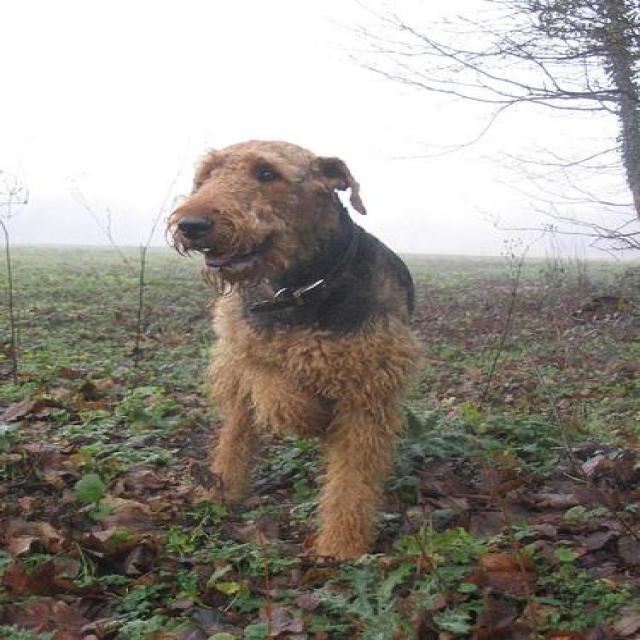airedale: (165, 141, 420, 564)
